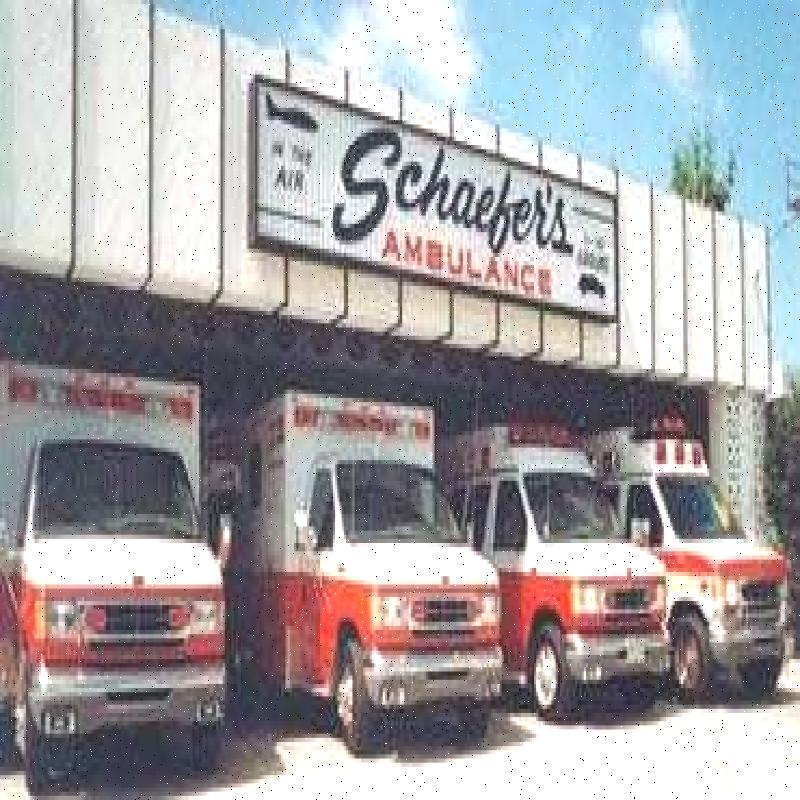AmbulanceSiren: (1, 354, 200, 449), (293, 401, 439, 454), (500, 414, 589, 461)
